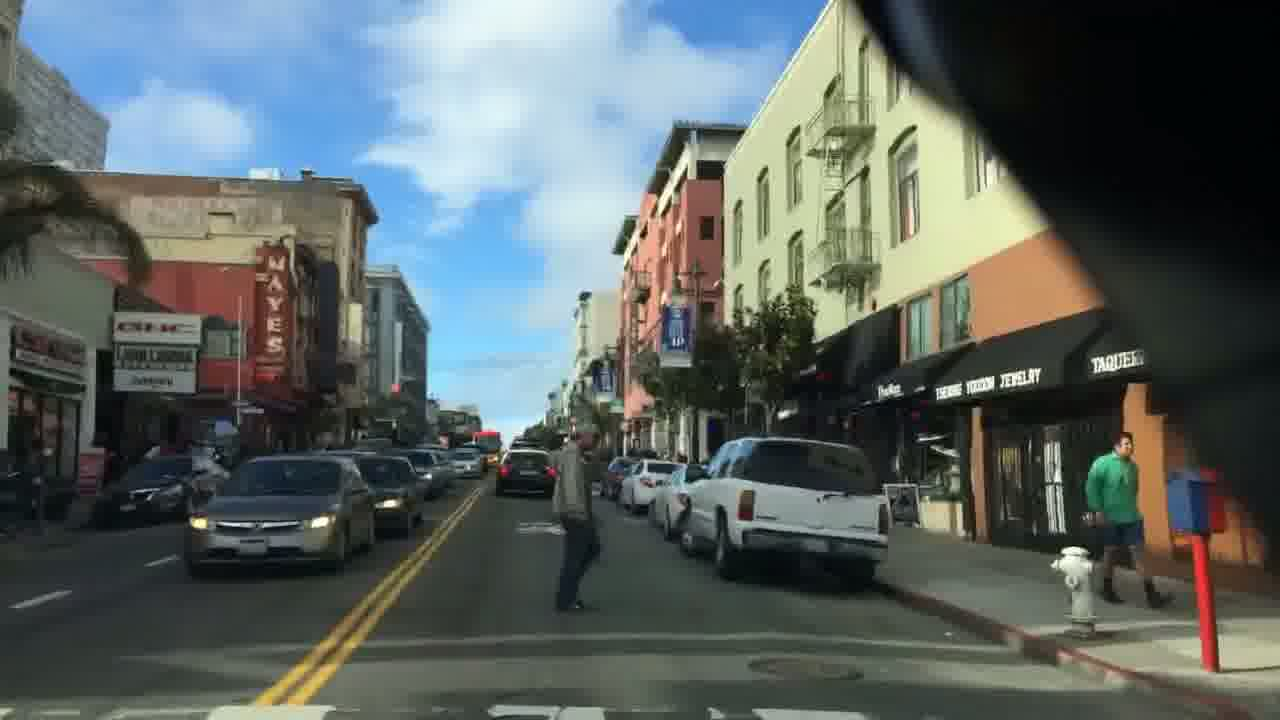car: (675, 434, 891, 594), (181, 453, 376, 575), (91, 453, 231, 529), (354, 454, 430, 536), (645, 462, 707, 542), (615, 457, 684, 516), (494, 446, 553, 497), (446, 446, 483, 478)
pedestrian: (1080, 429, 1175, 610), (551, 420, 606, 613)
